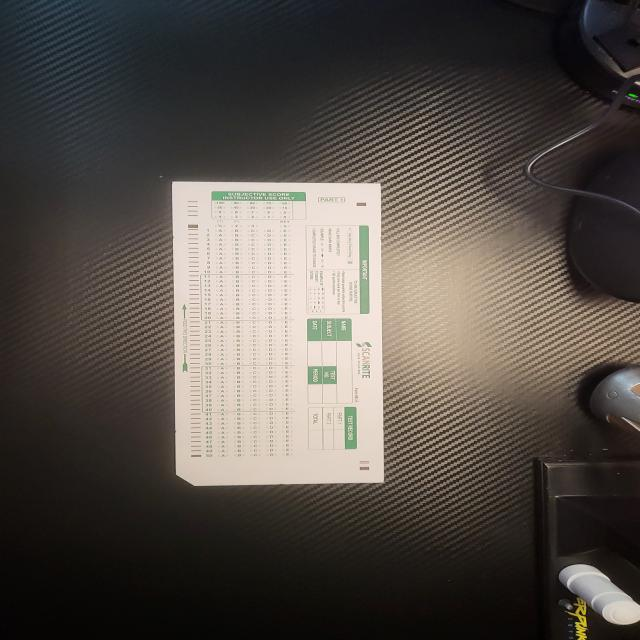scantron: (173, 181, 383, 485)
